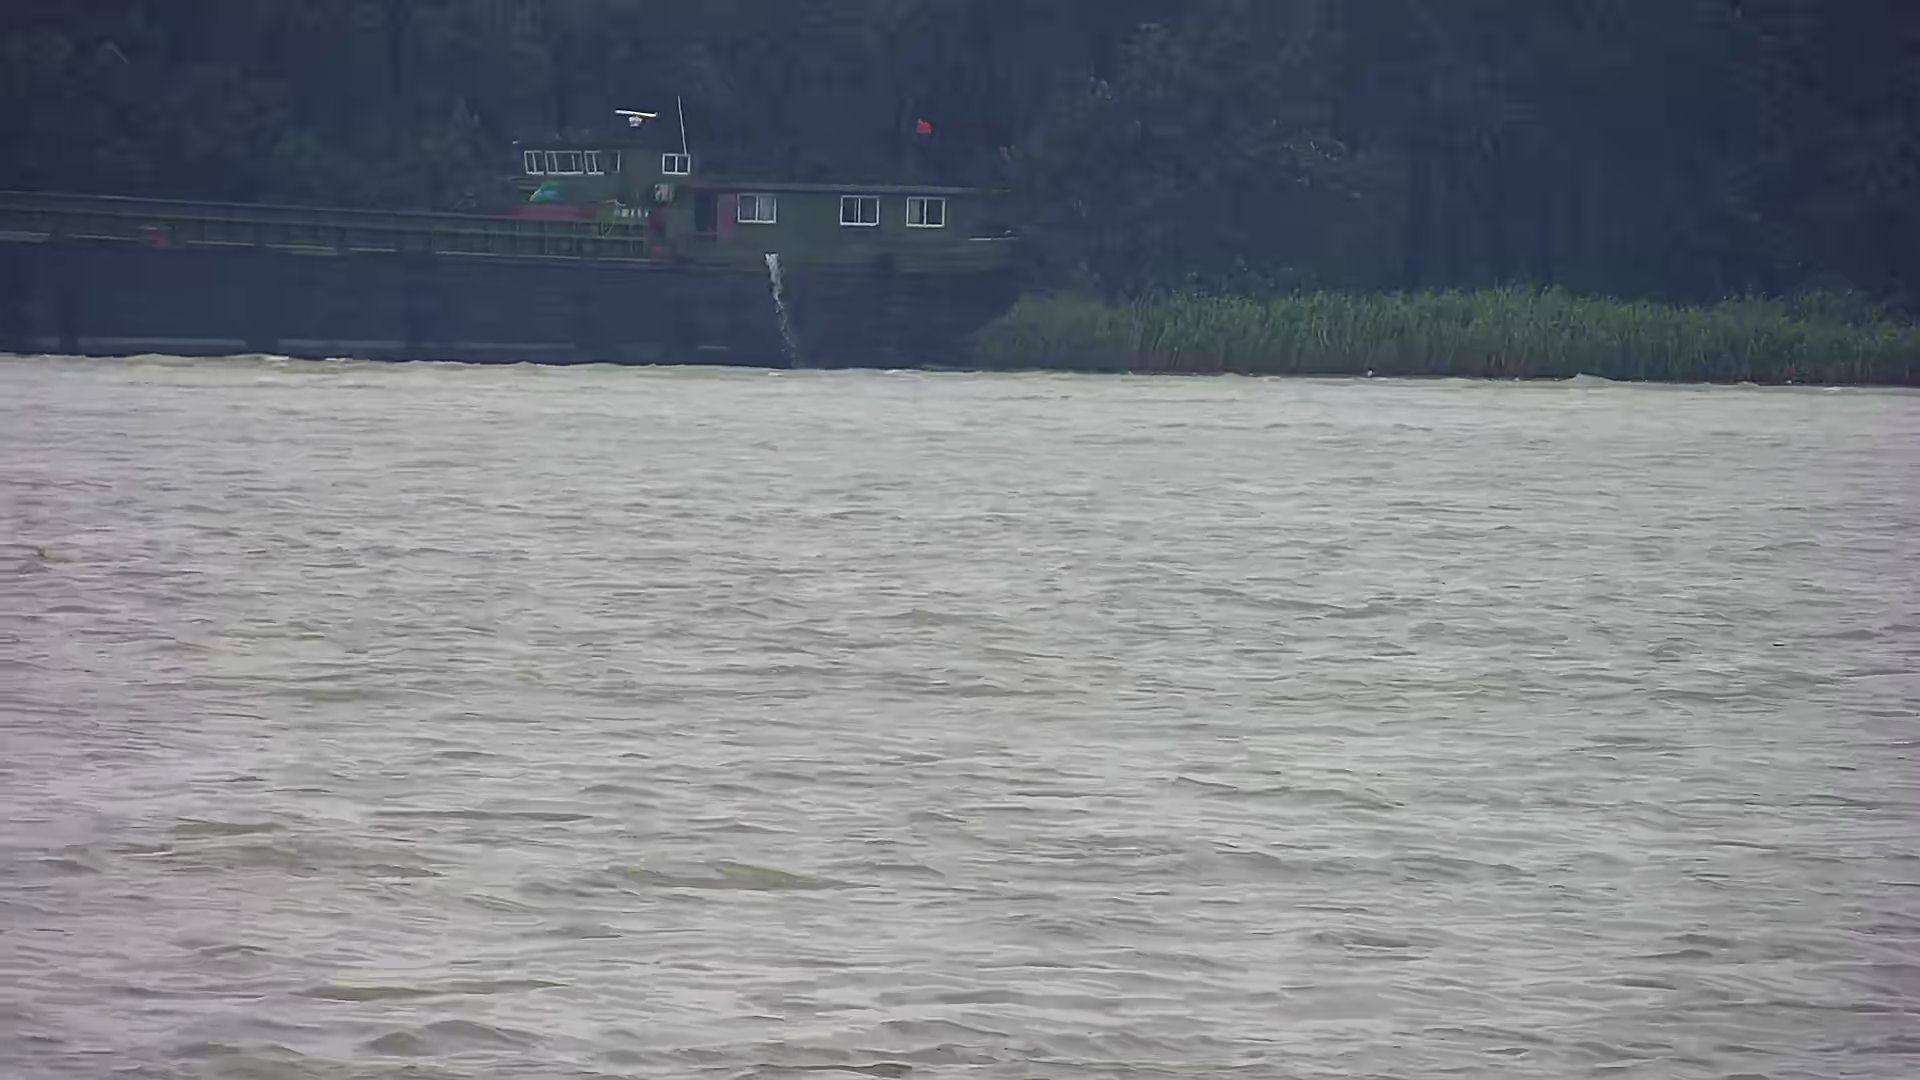ship: (1, 95, 1033, 378)
